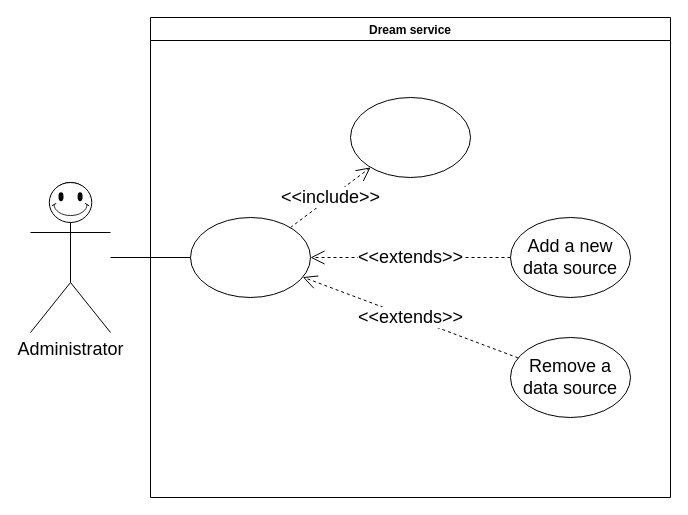
The diagram is 688 pixels wide and 515 high, and some of its shapes have lost their labels. The centre of each missing label's shape, as x and y in pixels:
"Log in" goes at point (410, 137).
"Manage Data Sources" goes at point (250, 257).
